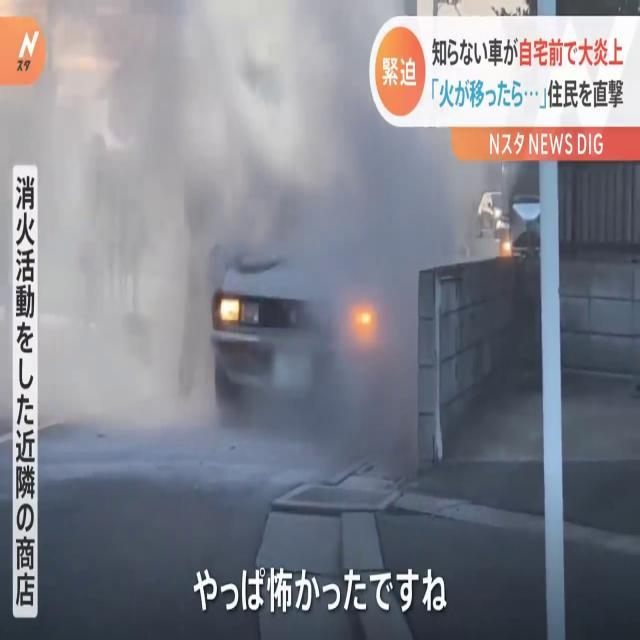Fire: (350, 294, 378, 339), (238, 332, 240, 337)
Smoke: (21, 0, 476, 478)
